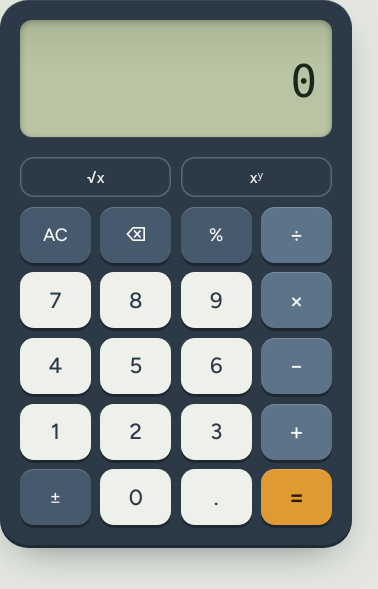
<Calculator /> › computes square roots and powers
This screenshot has width=378, height=589.
Click the button "8".
click(136, 300)  # box [100, 272, 171, 328]
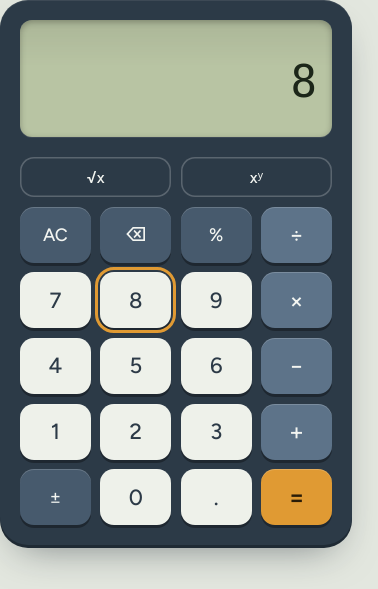
Click the button "1".
click(55, 432)  # box [20, 404, 91, 460]
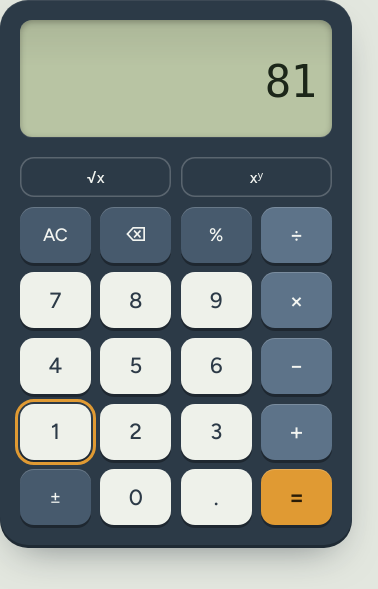
Click the button named "Square root".
click(96, 177)  # box [20, 157, 171, 197]
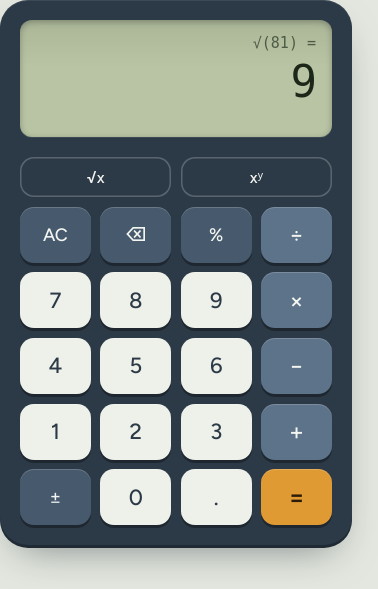
Check: the text with test id "display" reads "9", box [290, 56, 316, 107]
Click the button with aria-label "Power".
click(256, 177)  # box [181, 157, 332, 197]
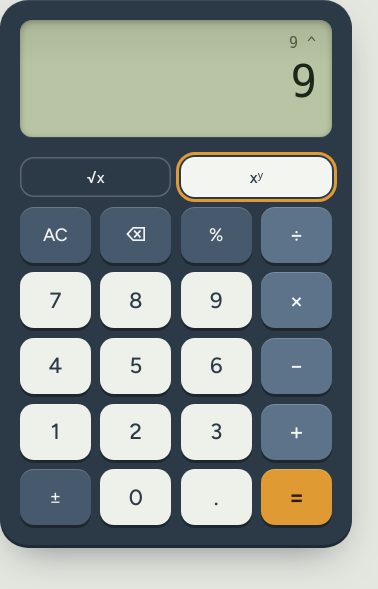
Click the button "2".
click(136, 432)  # box [100, 404, 171, 460]
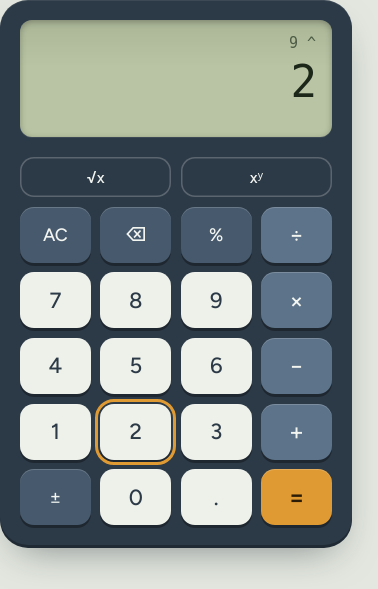
Click the button named "Equals".
click(297, 497)  # box [261, 469, 332, 525]
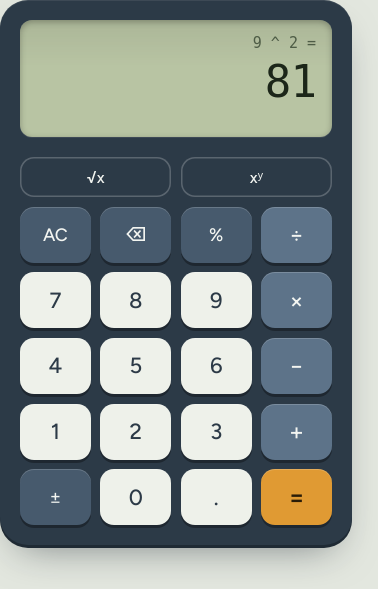
Check: the text with test id "display" reads "81", box [265, 56, 316, 107]
